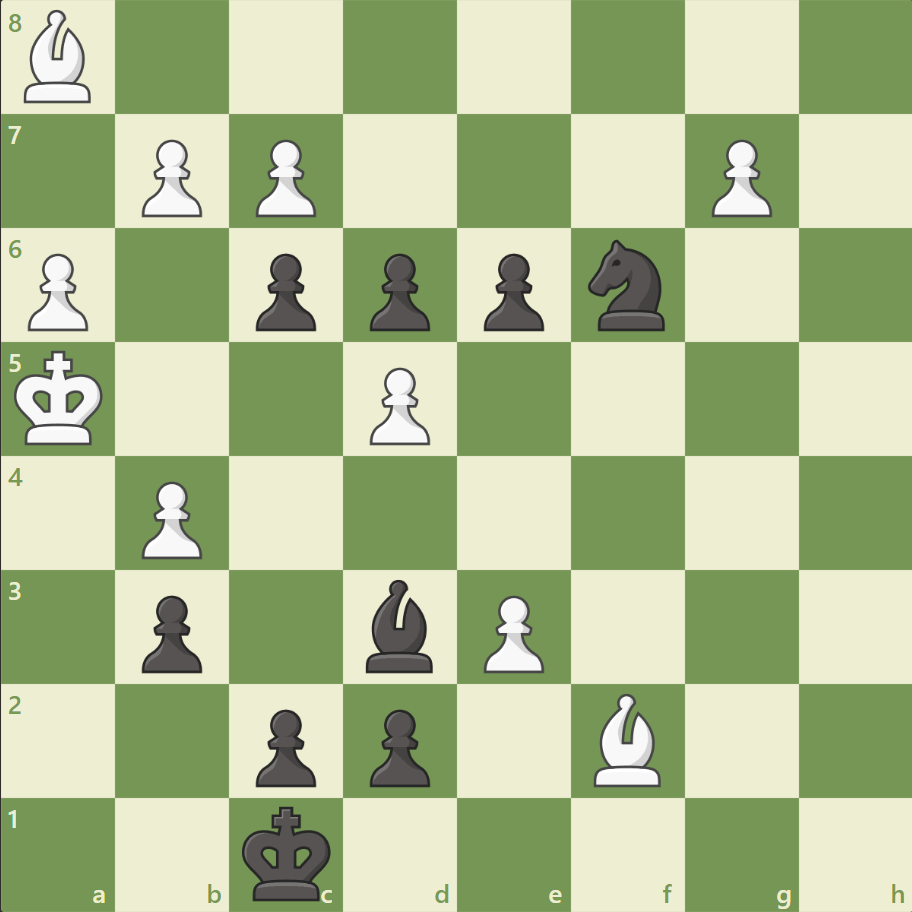B: (17, 6, 101, 109), (585, 687, 669, 790)
K: (11, 344, 111, 452)
P: (133, 132, 208, 223), (247, 132, 322, 223), (701, 132, 776, 223), (20, 246, 95, 337), (133, 473, 208, 564), (474, 586, 549, 677), (361, 359, 435, 450)
b: (358, 574, 442, 676)
k: (238, 798, 338, 906)
n: (579, 234, 676, 337)
p: (247, 246, 322, 337), (474, 246, 549, 337), (133, 586, 208, 677), (247, 700, 322, 791), (361, 246, 435, 337), (361, 700, 435, 791)
